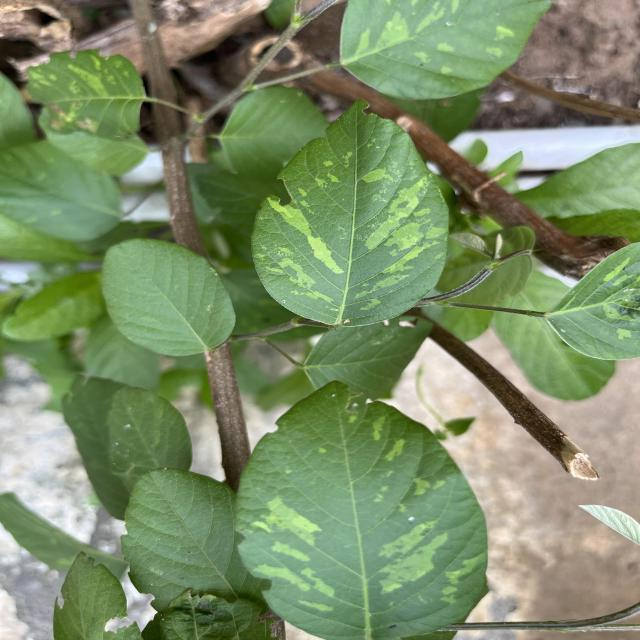Desmodium gangeticum: (247, 96, 453, 330)
